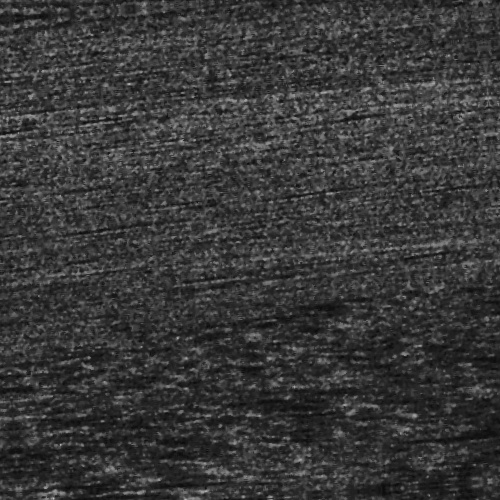object: (129, 478, 192, 487)
shadow: (33, 478, 160, 487)
